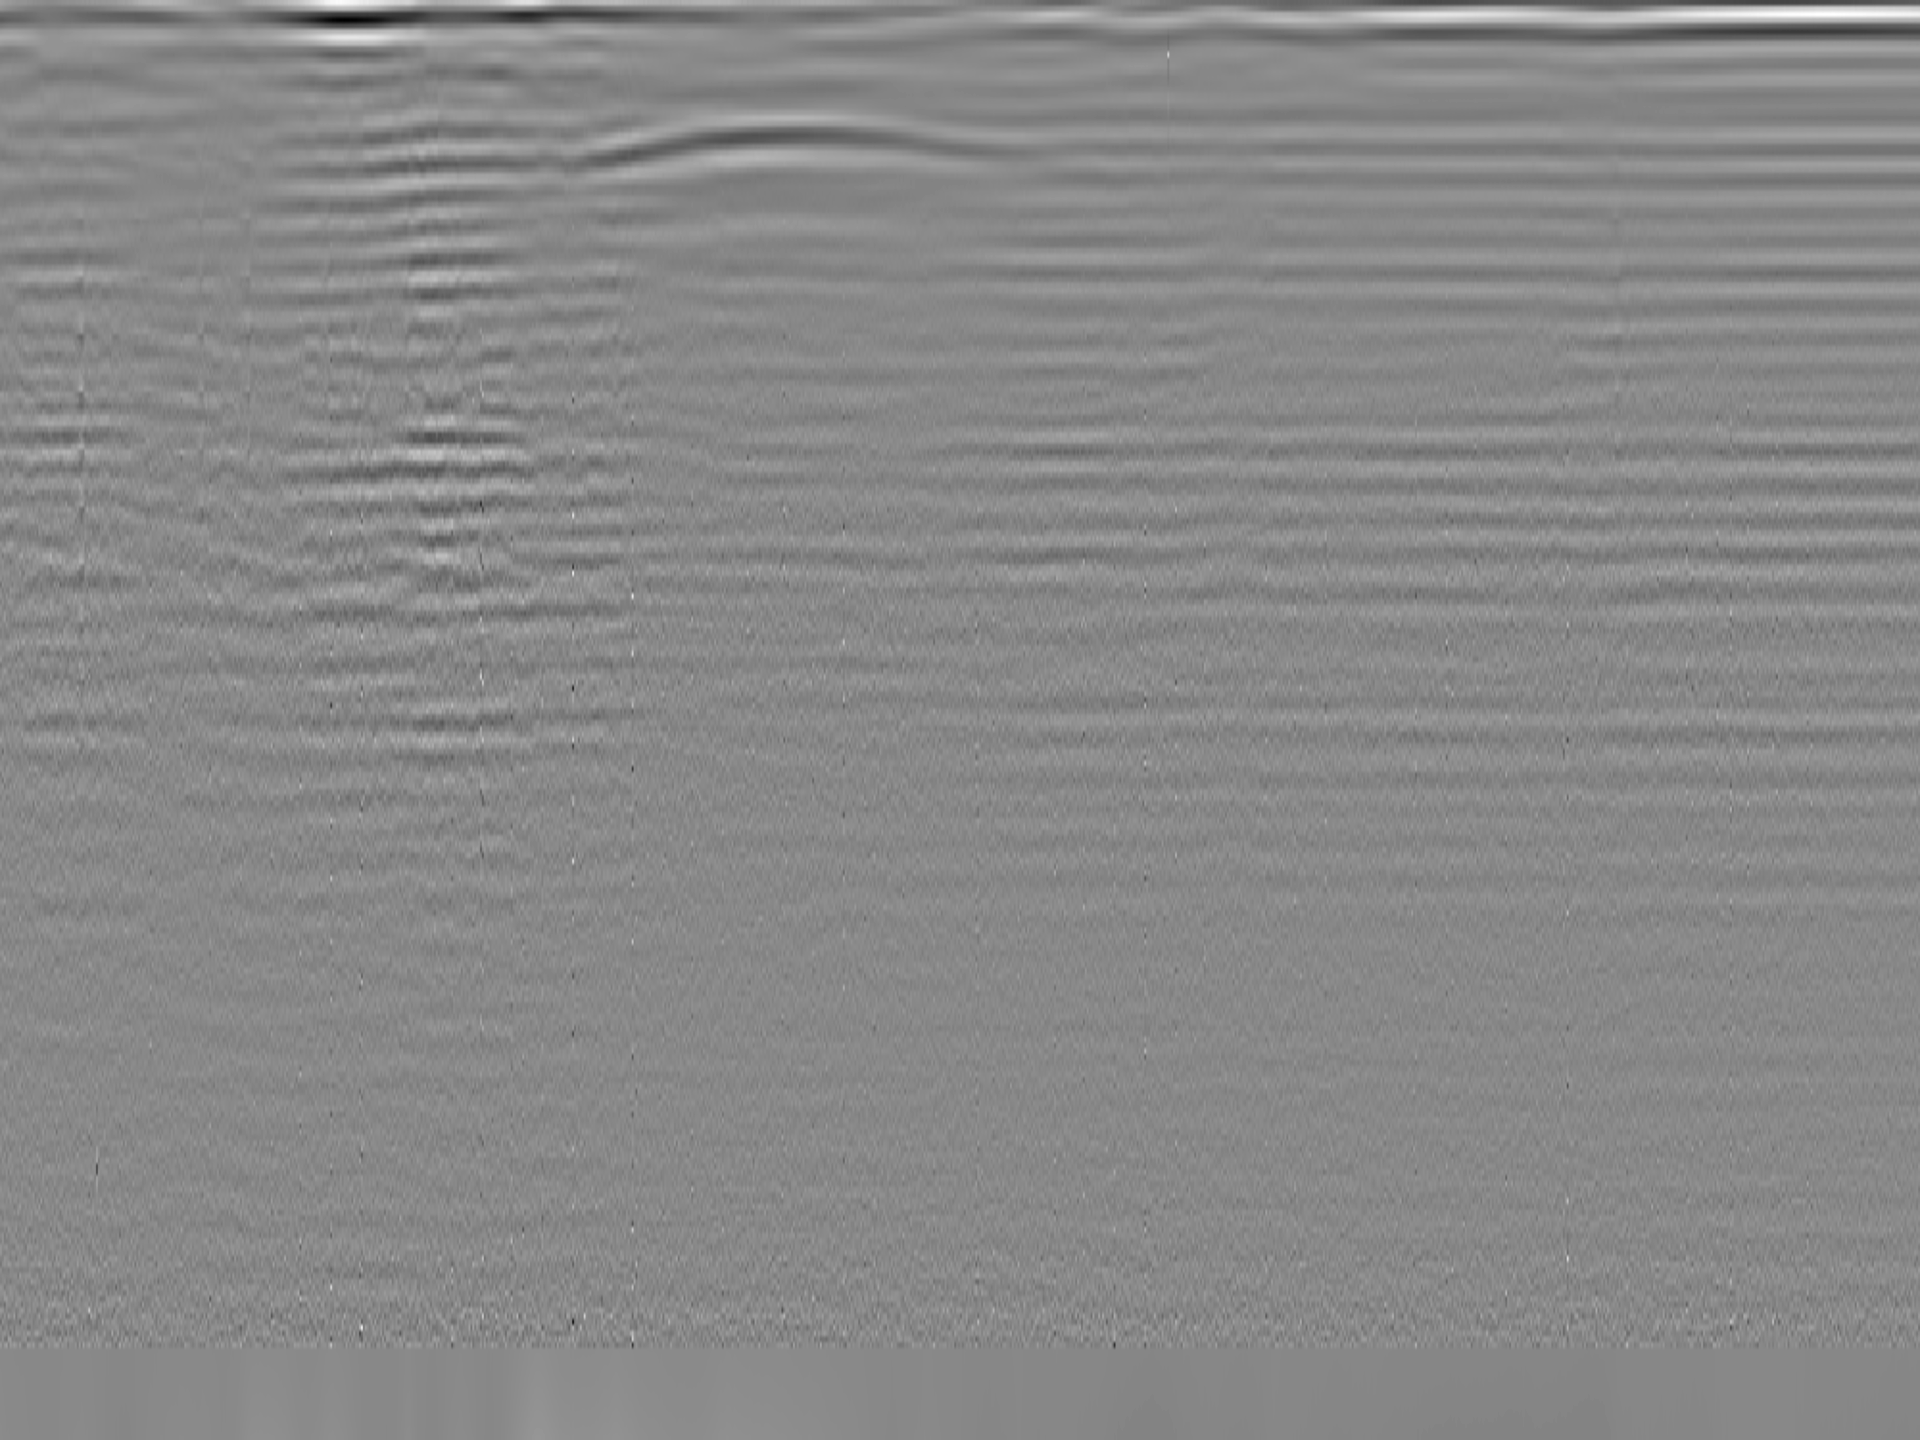Tunnel: (582, 112, 1019, 175)
